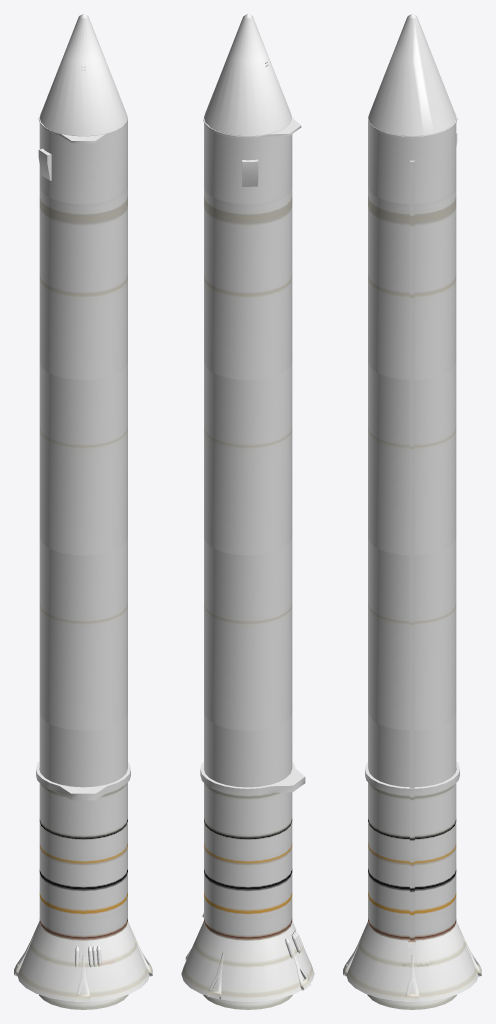
The model's file is space-shuttle-stack-srb.glb.
3 views of the same model, side by side, from view 1: azimuth 90°, elevation 25°; view 2: azimuth 150°, elevation 25°; view 3: azimuth 270°, elevation 25° (orthographic).
Visible parts, largest first — view 1: srb; view 2: srb; view 3: srb.
Boxes of the visible parts, left/top/right/bottom form: srb: left=14, top=14, right=152, bottom=1009; srb: left=181, top=14, right=314, bottom=1009; srb: left=343, top=14, right=481, bottom=1009.
Size of the model in its own units: 5.85 by 45.46 by 5.85.
Materials: 1 (1 with a texture image).
